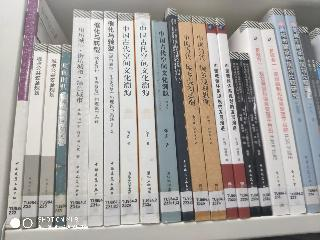book-spine: (271, 8, 320, 214), (258, 22, 307, 215), (243, 20, 290, 216), (190, 16, 226, 219), (6, 0, 38, 228), (176, 14, 211, 221), (281, 8, 320, 191), (215, 18, 250, 218), (148, 20, 181, 223), (205, 17, 237, 219), (165, 8, 194, 221), (132, 14, 159, 223), (238, 53, 272, 215), (230, 53, 261, 216), (67, 10, 90, 227), (116, 13, 139, 223), (22, 44, 47, 228), (39, 46, 60, 227), (54, 45, 72, 227), (104, 12, 119, 225), (89, 12, 103, 226)
